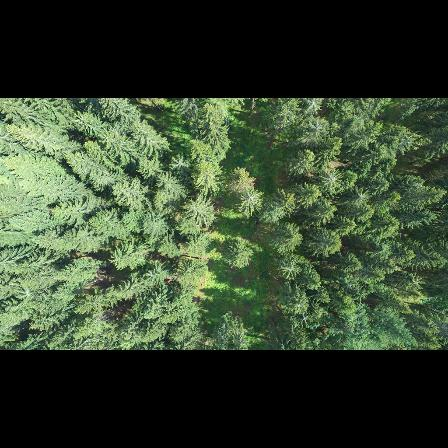Sick: (235, 186, 262, 213), (317, 166, 345, 192), (275, 256, 304, 279), (346, 187, 375, 210), (299, 98, 325, 120)
